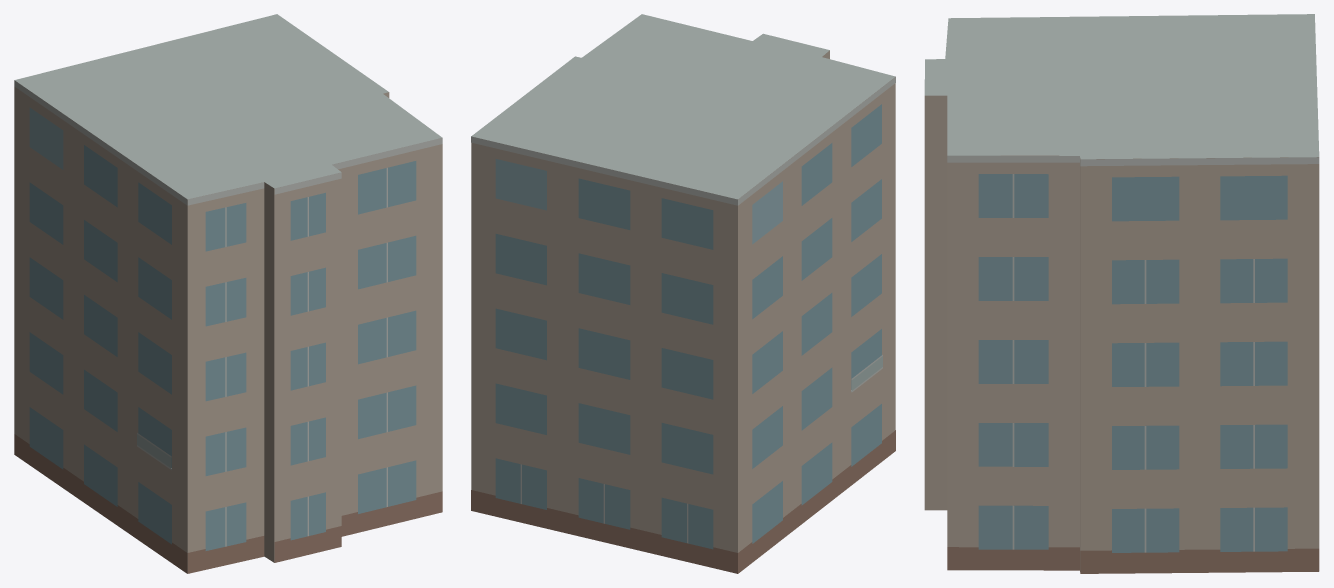
File: survey-upis-32575613.glb
3 views of the same model, side by side, from view 1: azimuth 30°, elevation 25°; view 2: azimuth 150°, elevation 25°; view 3: azimuth 270°, elevation 25° (orthographic). The views are drawn at different scales.
Visible parts, largest first — view 1: survey-upis-32575613.tmp; view 2: survey-upis-32575613.tmp; view 3: survey-upis-32575613.tmp.
Boxes of the visible parts, left/top/right/bottom form: survey-upis-32575613.tmp: left=14, top=14, right=442, bottom=573; survey-upis-32575613.tmp: left=471, top=14, right=895, bottom=573; survey-upis-32575613.tmp: left=924, top=14, right=1319, bottom=573.
Size of the model in its own units: 10.94 by 14.55 by 12.57.
